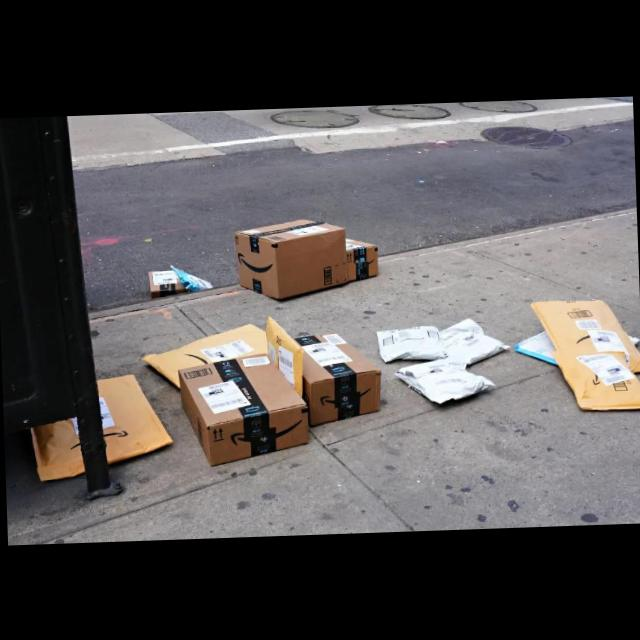box: (174, 348, 310, 470), (275, 328, 385, 428), (229, 217, 347, 301), (342, 236, 378, 283), (144, 267, 187, 298)
mailer: (531, 300, 640, 408), (531, 299, 640, 371), (143, 323, 267, 385), (97, 374, 172, 462), (553, 349, 640, 409), (396, 358, 495, 402), (440, 317, 509, 363), (265, 315, 303, 394), (377, 324, 446, 360), (515, 329, 557, 364)
